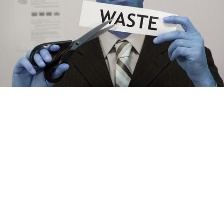book: (71, 0, 199, 35), (11, 0, 77, 51)
